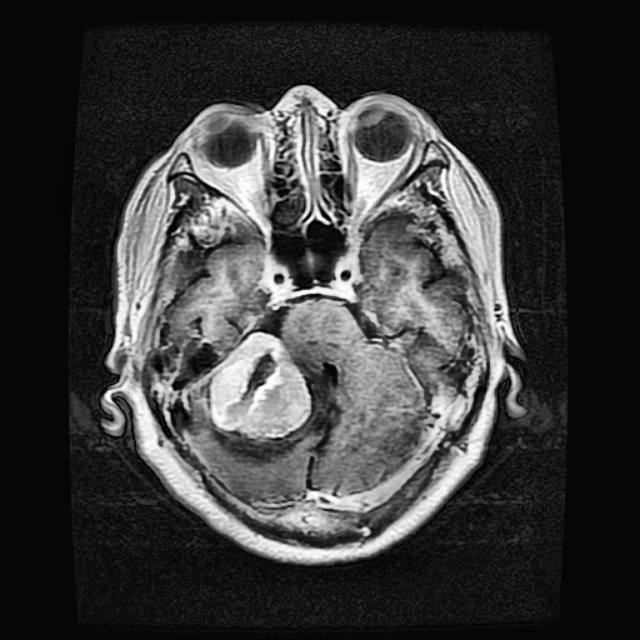Pituitary: (209, 330, 309, 438)
